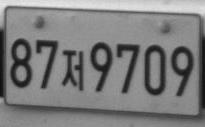0: (142, 43, 167, 95)
7: (115, 43, 140, 93), (34, 38, 58, 89)
8: (9, 37, 33, 88)
9: (89, 40, 113, 92), (170, 45, 194, 96)
저: (61, 49, 84, 91)
